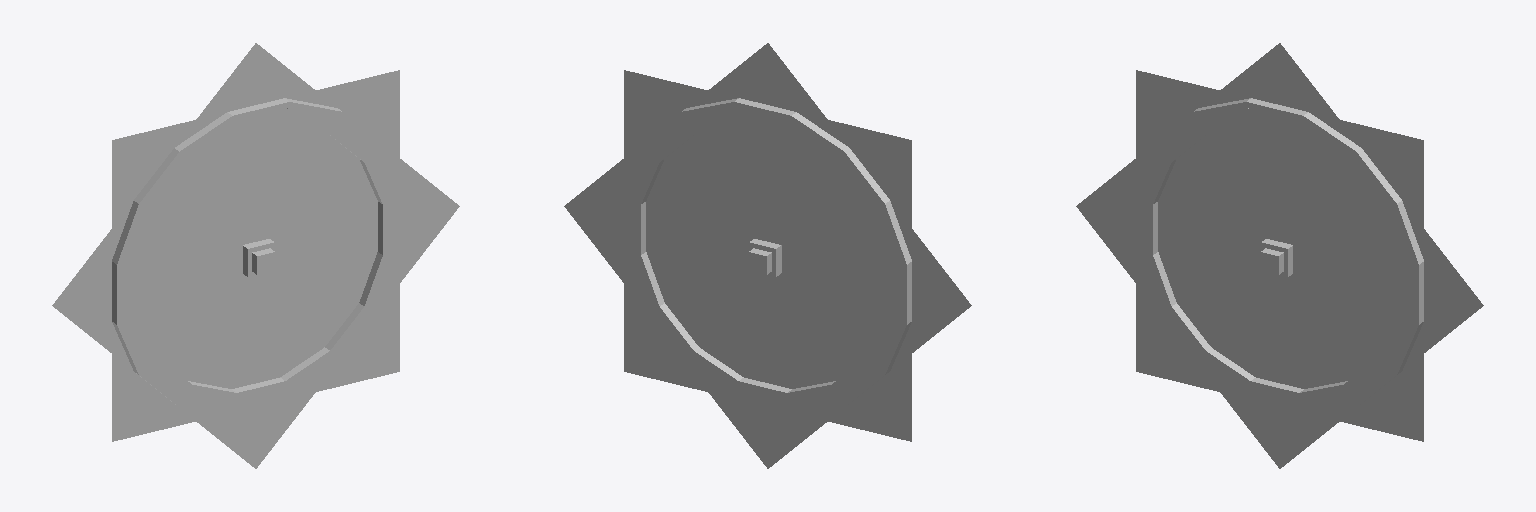
The model's file is spoked_wooden_wheel_2_a.obj.
3 renders of one model, left to right at view 1: azimuth 30°, elevation 25°; view 2: azimuth 150°, elevation 25°; view 3: azimuth 330°, elevation 25°, orthographic.
Visible parts, largest first — view 1: medium_wheel.018, medium_wheel.017, medium_wheel.002, medium_wheel.000, medium_wheel.010, medium_wheel.008, medium_wheel.001, medium_wheel.004, medium_wheel.014, medium_wheel.012, medium_wheel.009, medium_wheel.006 (+7 smaller); view 2: medium_wheel.017, medium_wheel.018, medium_wheel.001, medium_wheel.009, medium_wheel.003, medium_wheel, medium_wheel.007, medium_wheel.011, medium_wheel.000, medium_wheel.002, medium_wheel.010, medium_wheel.008 (+8 smaller); view 3: medium_wheel.018, medium_wheel.017, medium_wheel.012, medium_wheel.014, medium_wheel.004, medium_wheel.006, medium_wheel.013, medium_wheel.010, medium_wheel.000, medium_wheel.002, medium_wheel.005, medium_wheel.008 (+7 smaller).
Part boxes in pixels (x1,y1,x2,y2): medium_wheel.018: (52, 43, 459, 468); medium_wheel.017: (112, 70, 399, 441); medium_wheel.002: (112, 201, 159, 268); medium_wheel.000: (175, 112, 240, 170); medium_wheel.010: (359, 251, 404, 314); medium_wheel.008: (280, 347, 342, 402); medium_wheel.001: (134, 148, 191, 210); medium_wheel.004: (112, 311, 159, 374); medium_wheel.014: (281, 98, 342, 135); medium_wheel.012: (360, 145, 404, 207); medium_wheel.009: (325, 303, 382, 366); medium_wheel.006: (180, 381, 240, 417); medium_wheel.017: (624, 70, 911, 441); medium_wheel.018: (564, 43, 971, 468); medium_wheel.001: (829, 148, 889, 216); medium_wheel.009: (641, 303, 698, 367); medium_wheel.003: (884, 259, 911, 324); medium_wheel: (734, 98, 795, 138); medium_wheel.007: (734, 378, 791, 417); medium_wheel.011: (619, 195, 645, 259); medium_wheel.000: (787, 112, 848, 168); medium_wheel.002: (867, 201, 911, 264); medium_wheel.010: (619, 252, 664, 314); medium_wheel.008: (682, 347, 743, 402); medium_wheel.018: (1076, 43, 1483, 468); medium_wheel.017: (1136, 70, 1423, 441); medium_wheel.012: (1376, 201, 1423, 268); medium_wheel.014: (1295, 112, 1360, 170); medium_wheel.004: (1131, 251, 1176, 314); medium_wheel.006: (1193, 347, 1255, 402); medium_wheel.013: (1344, 148, 1401, 210); medium_wheel.010: (1376, 311, 1423, 374); medium_wheel.000: (1193, 98, 1254, 135); medium_wheel.002: (1131, 145, 1175, 207); medium_wheel.005: (1153, 303, 1210, 366); medium_wheel.008: (1295, 381, 1355, 417).
Size of the model in its own units: 2.83 by 2.83 by 0.25.